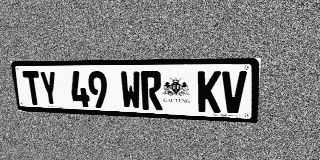4: (69, 71, 90, 107)
9: (87, 71, 109, 108)
K: (198, 71, 221, 113)
R: (140, 71, 163, 110)
T: (22, 71, 43, 105)
V: (221, 71, 247, 114)
W: (120, 71, 142, 110)
Y: (39, 71, 60, 106)
